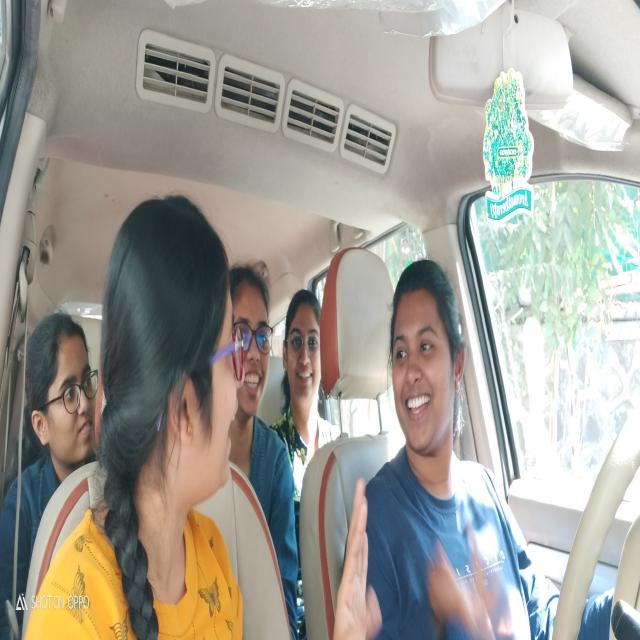LeftRight: (390, 252, 470, 451)
person: (127, 200, 247, 504), (27, 322, 96, 458), (233, 262, 274, 417), (289, 286, 323, 422)
talking: (401, 398, 434, 420)
